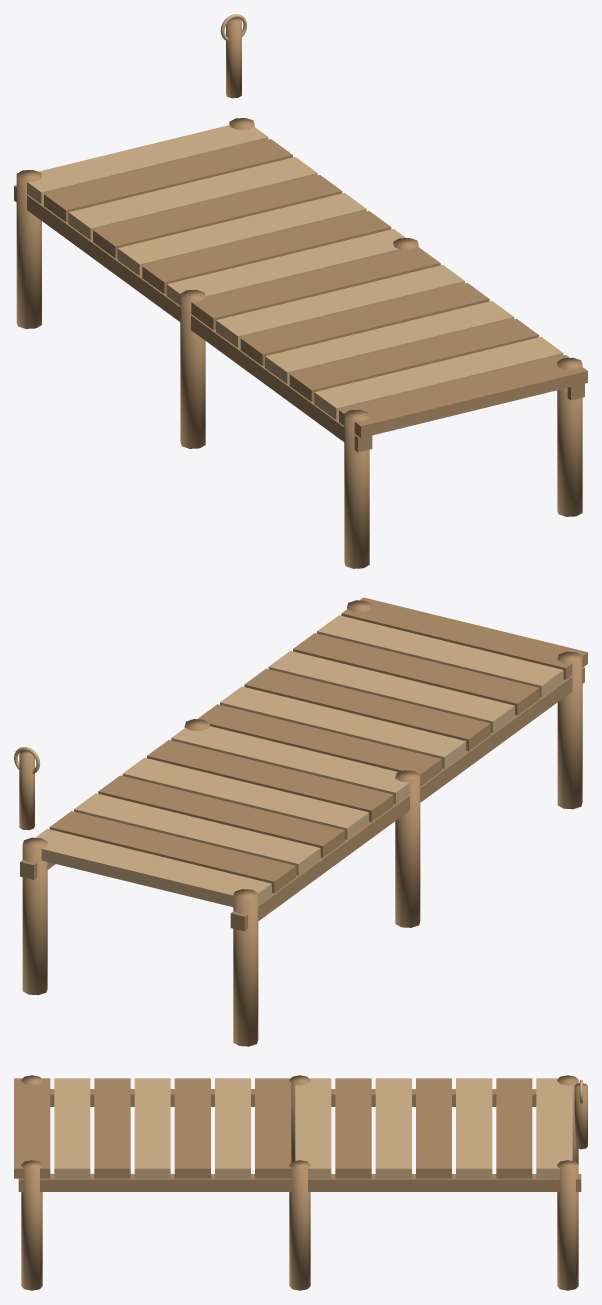
The model's file is world_pond_dock.glb.
3 views of the same model, one above another, from view 1: azimuth 30°, elevation 25°; view 2: azimuth 150°, elevation 25°; view 3: azimuth 270°, elevation 25° (orthographic). The views are drawn at different scales.
Parts seen in each view (by area): view 1: world_pond_dock; view 2: world_pond_dock; view 3: world_pond_dock.
Boxes of the visible parts, <box> form: world_pond_dock: <box>14,14,587,568</box>; world_pond_dock: <box>14,597,587,1046</box>; world_pond_dock: <box>14,1075,587,1290</box>.
Size of the model in its own units: 1.67 by 1.69 by 4.29.
